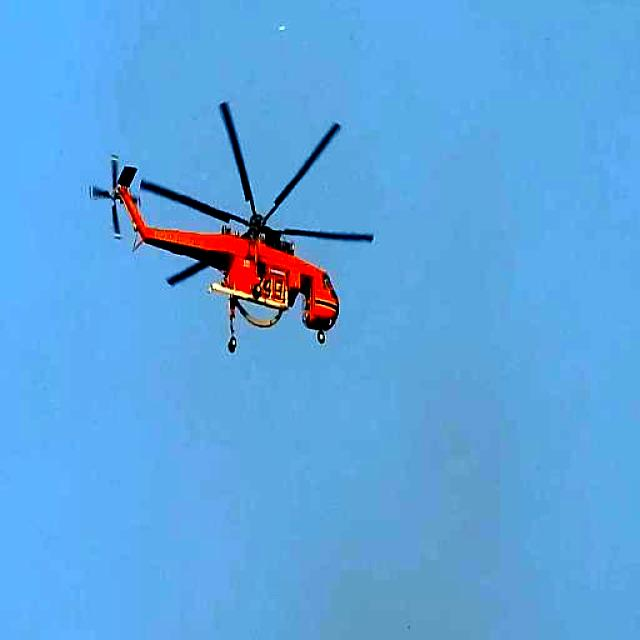drone: (90, 56, 400, 358)
